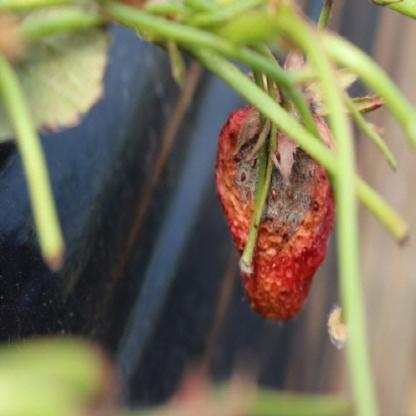Strawberry_Gray_Mold: (214, 51, 338, 322)
